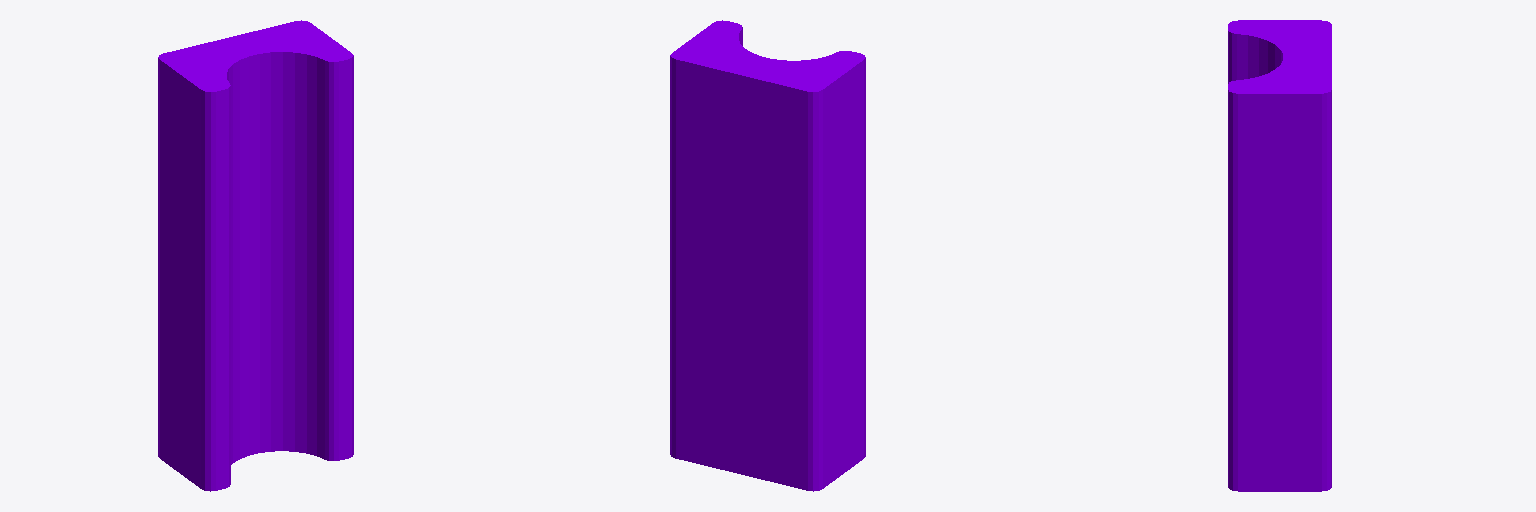
robot.urdf — Large_Long_Arch_Purple:
<?xml version="1.0"?>
<robot name="Large_Long_Arch_Purple">
    <link name="Large_Long_Arch_Purple">
        <visual>
            <geometry>
                <mesh filename="../mesh/factory_insertion/Large_Long_Arch_Purple.obj" scale="0.001 0.001 0.001"/>
            </geometry>
            <material name="Purple">
              <color rgba="0.6 0.0 1.0 0.0"/>
            </material>
        </visual>
        <collision>
            <geometry>
                <mesh filename="../mesh/factory_insertion/Large_Long_Arch_Purple.obj" scale="0.001 0.001 0.001"/>
            </geometry>
            <sdf resolution="512"/>
        </collision>
    </link>
</robot>

--- What the picture shows (computed from the rendered views, not written in the file) ---
The picture shows the robot from 3 angles, left to right: view 1: azimuth 30°, elevation 25°; view 2: azimuth 150°, elevation 25°; view 3: azimuth 270°, elevation 25°; orthographic projection.
Robot: Large_Long_Arch_Purple — 1 links, 0 joints (none); root link Large_Long_Arch_Purple; default pose: every joint at zero.
Links seen in each view (by area): view 1: Large_Long_Arch_Purple; view 2: Large_Long_Arch_Purple; view 3: Large_Long_Arch_Purple.
Boxes of the visible links, x1=… form: Large_Long_Arch_Purple: x1=158, y1=20, x2=353, y2=491; Large_Long_Arch_Purple: x1=670, y1=20, x2=865, y2=491; Large_Long_Arch_Purple: x1=1228, y1=20, x2=1331, y2=491.
Bounding box of the posed robot: 0.0593 × 0.0356 × 0.15 m (x, y, z).
1 mesh visuals loaded from 1 distinct referenced files (1 OBJ).
